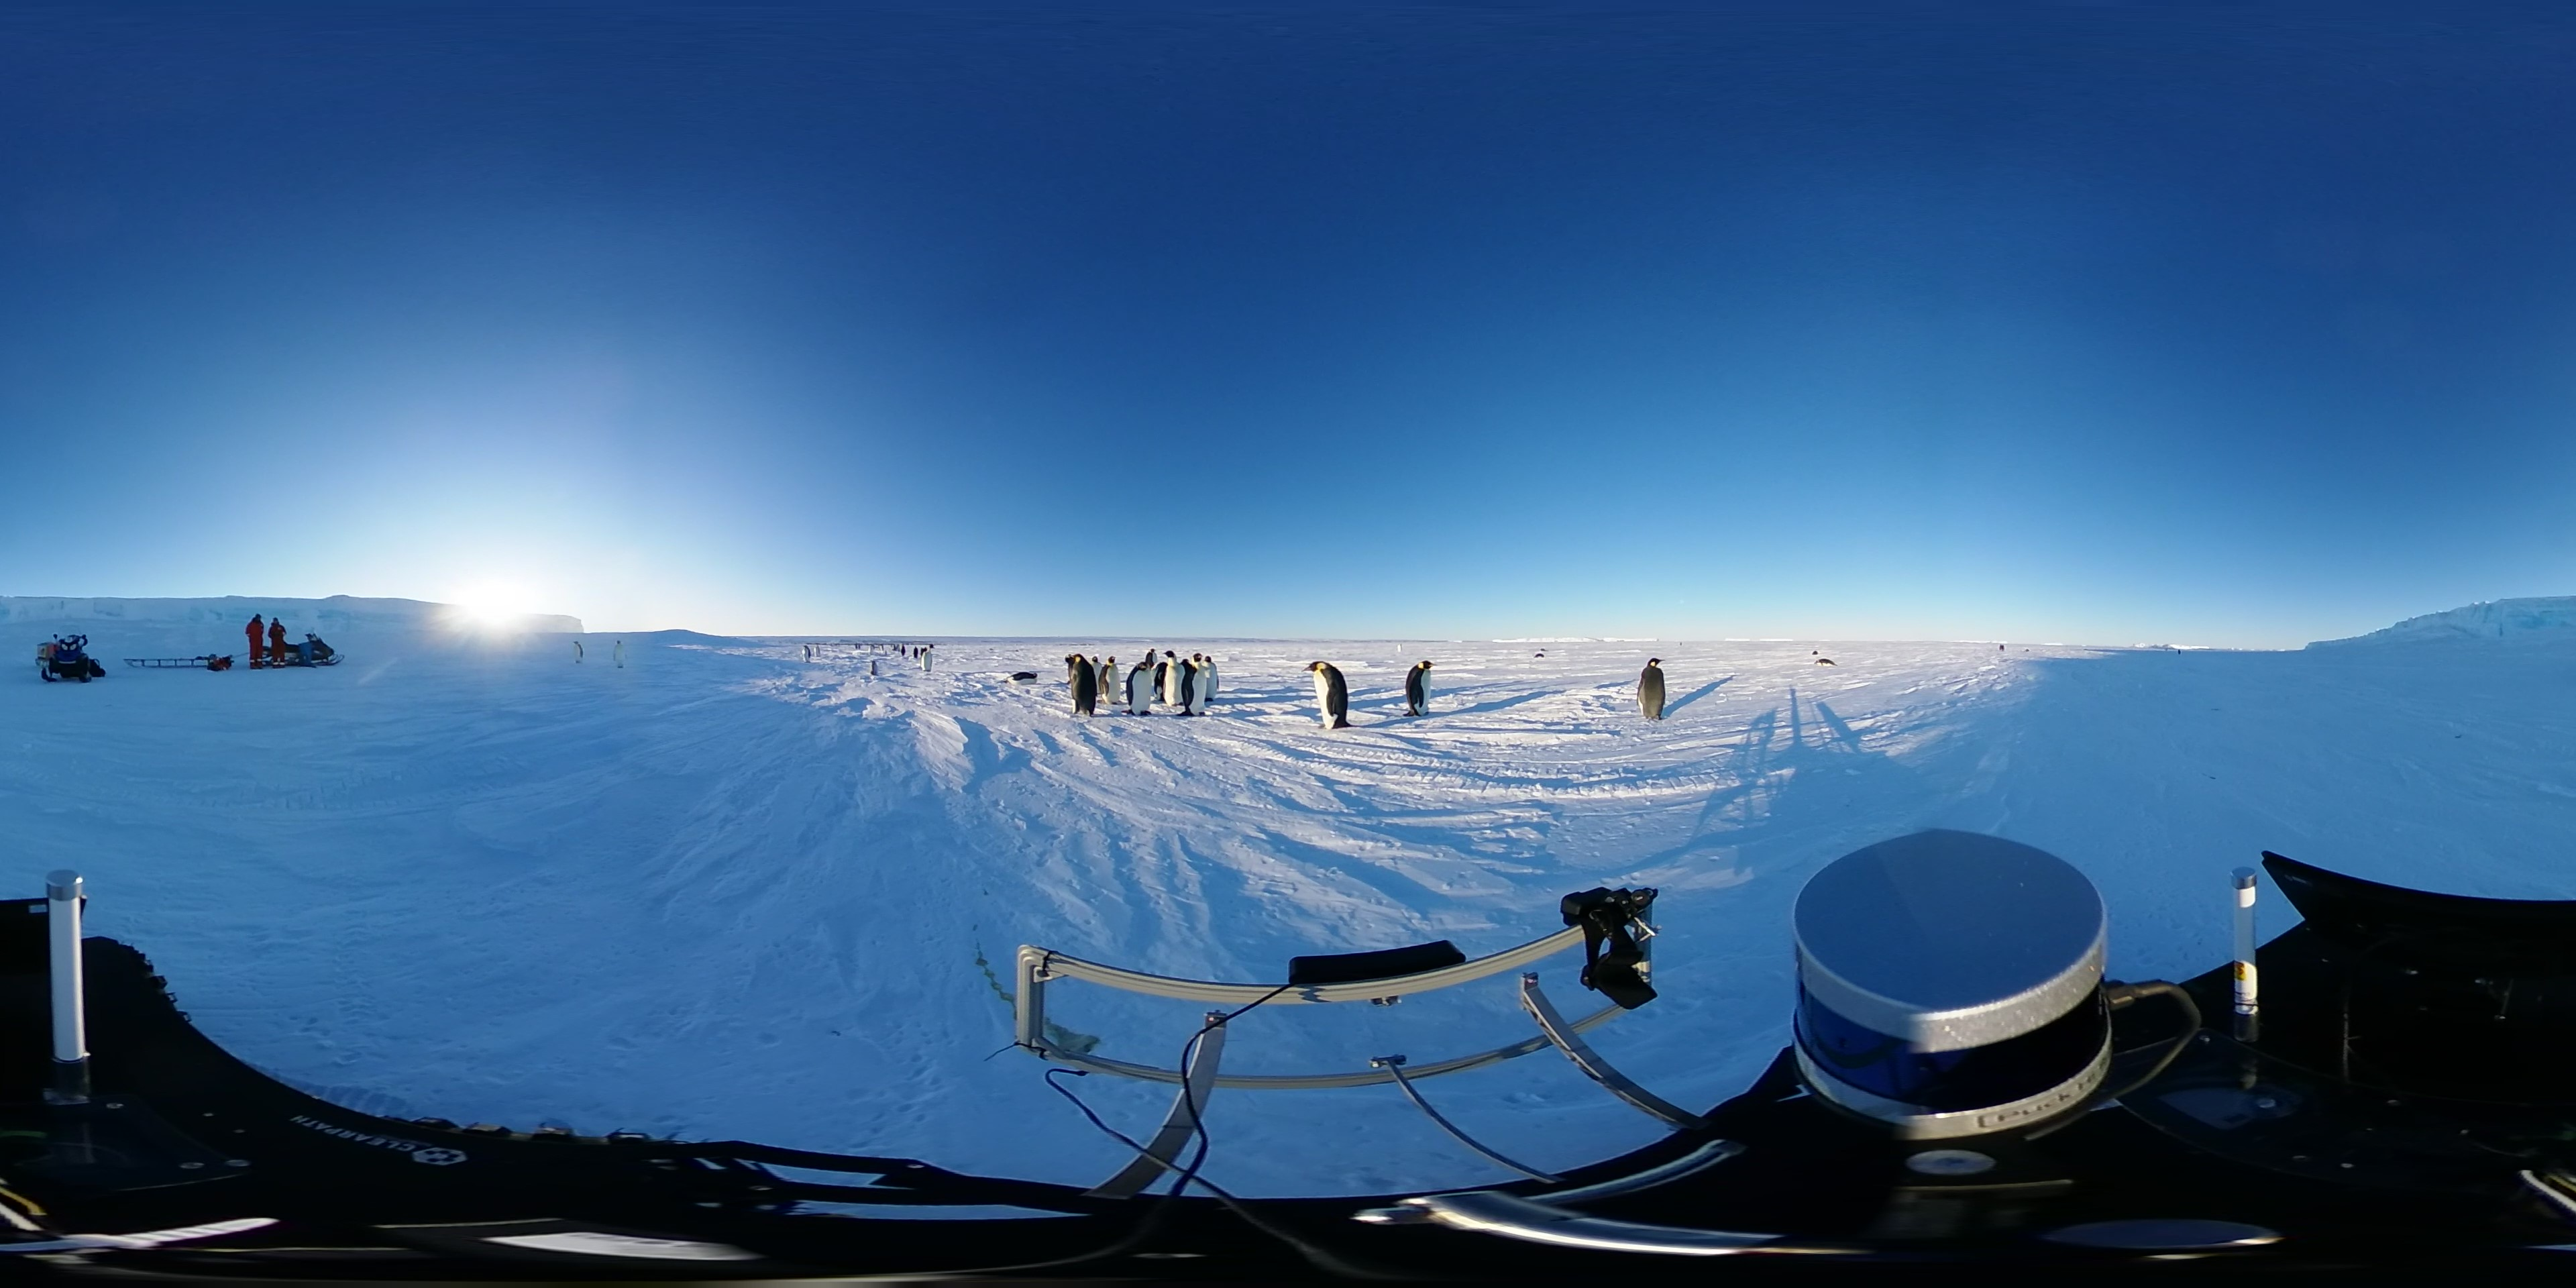adult_standing_penguin: (1299, 659, 1357, 731), (1630, 655, 1671, 724), (1403, 659, 1442, 721), (1066, 652, 1097, 720), (1184, 652, 1211, 723), (1125, 660, 1153, 724), (1101, 654, 1122, 706)
adult_toboggan_penguin: (999, 669, 1043, 692)
researcher: (245, 611, 268, 672), (268, 614, 289, 670)
